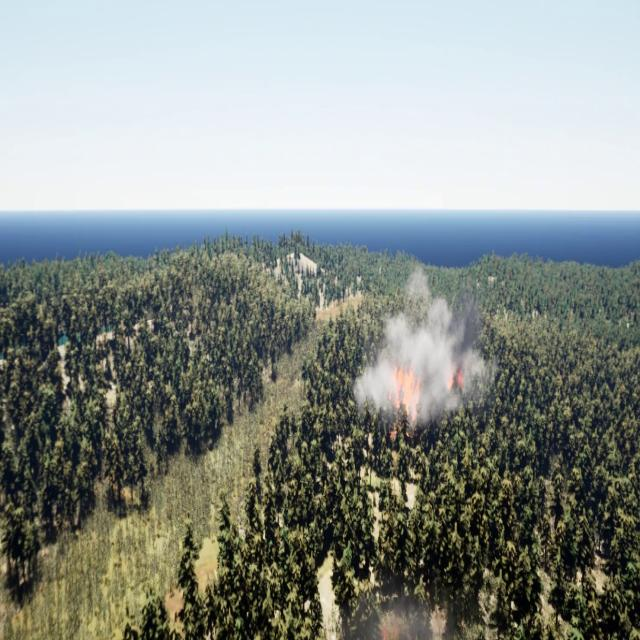fire: (388, 363, 418, 443), (440, 358, 468, 392)
smoke: (351, 253, 497, 421)
